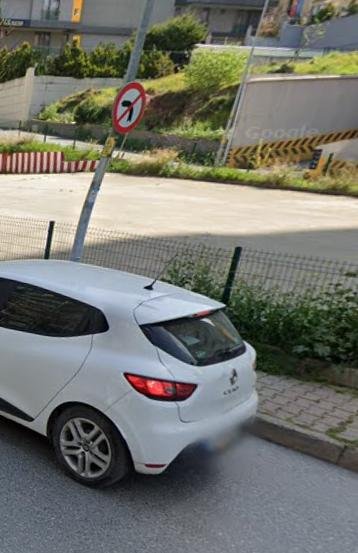leftturnsareforbidden: (118, 88, 142, 128)
